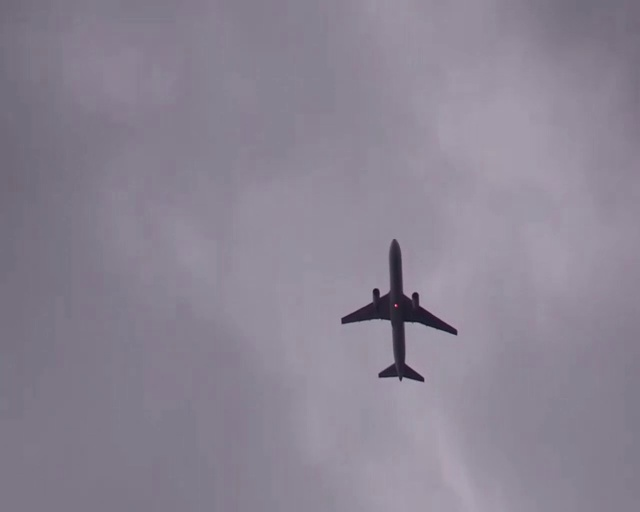AIRPLANE: (341, 239, 458, 382)
